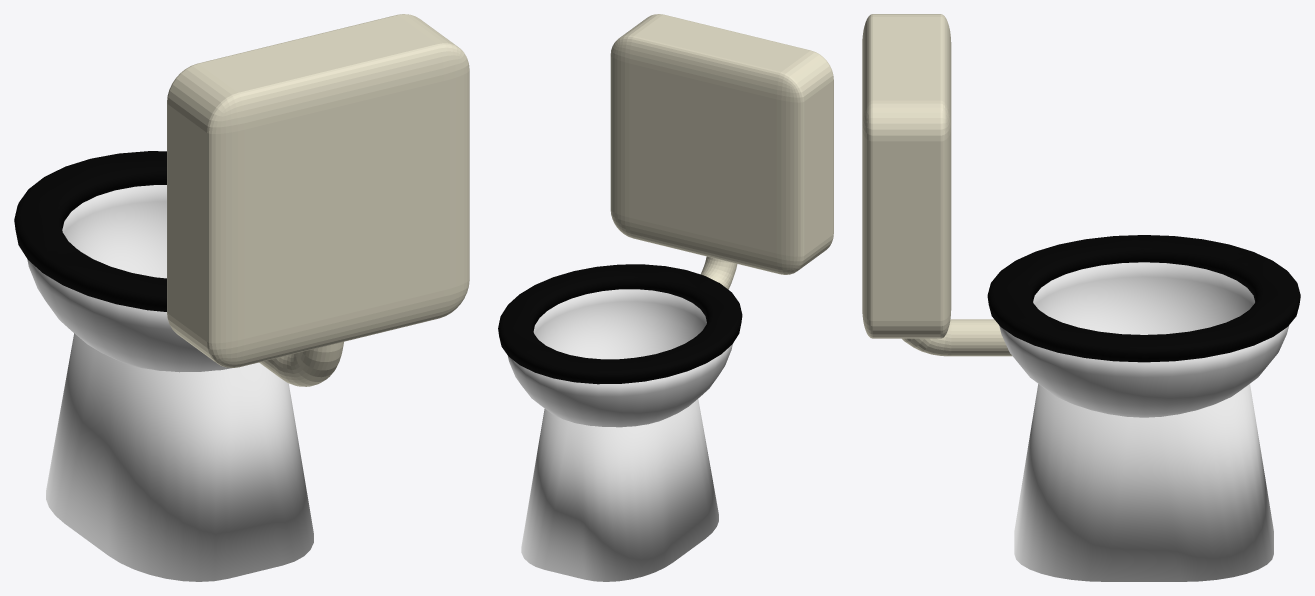
File: toilet.glb
The picture shows the model from 3 angles, left to right: view 1: azimuth 30°, elevation 25°; view 2: azimuth 150°, elevation 25°; view 3: azimuth 270°, elevation 25°; orthographic projection. The views are drawn at different scales.
Visible parts, largest first — view 1: Cube.001, Cube, Sphere, Sphere.001, Cylinder; view 2: Cube.001, Cube, Sphere, Sphere.001, Cylinder; view 3: Cube, Cube.001, Sphere, Sphere.001, Cylinder.
Part boxes in pixels (x1,y1,x2,y2): Cube.001: (167, 14, 469, 367); Cube: (46, 333, 313, 581); Sphere: (27, 185, 231, 372); Sphere.001: (14, 151, 166, 311); Cylinder: (259, 342, 343, 386); Cube.001: (610, 14, 833, 274); Cube: (521, 399, 718, 581); Sphere: (507, 289, 732, 427); Sphere.001: (498, 264, 742, 384); Cylinder: (700, 256, 737, 289); Cube: (1014, 384, 1273, 581); Cube.001: (862, 14, 951, 338); Sphere: (999, 262, 1289, 417); Sphere.001: (987, 235, 1300, 362); Cylinder: (902, 319, 1012, 356).
Bounding box in the file's own units: 0.3694 × 0.72 × 0.5911.
